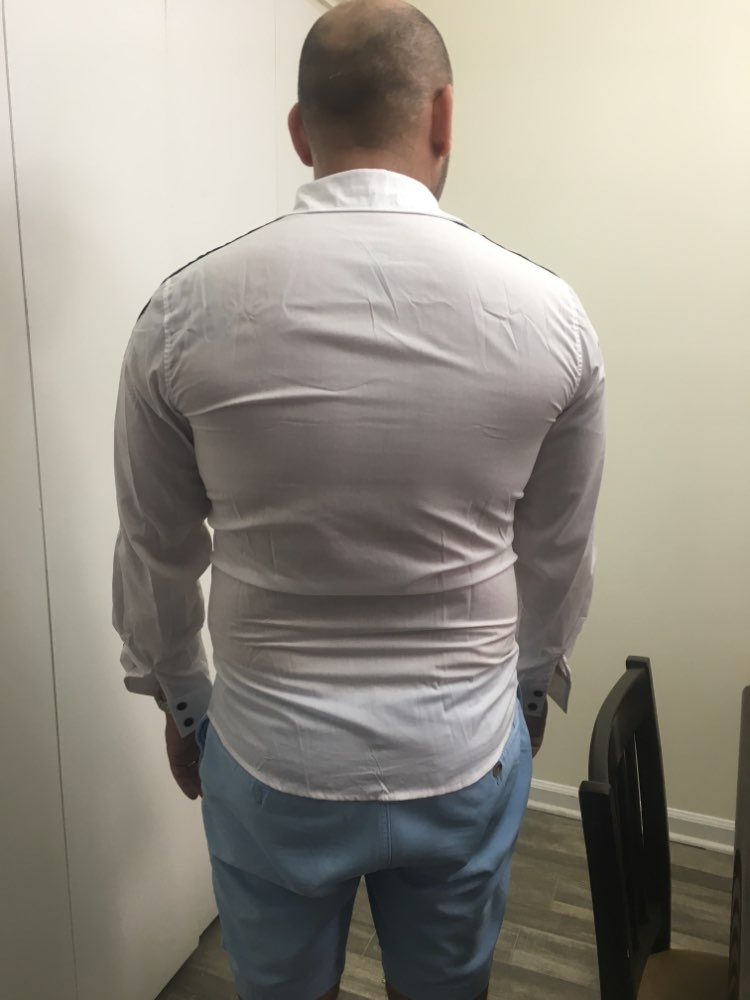shirts: (114, 183, 600, 794)
